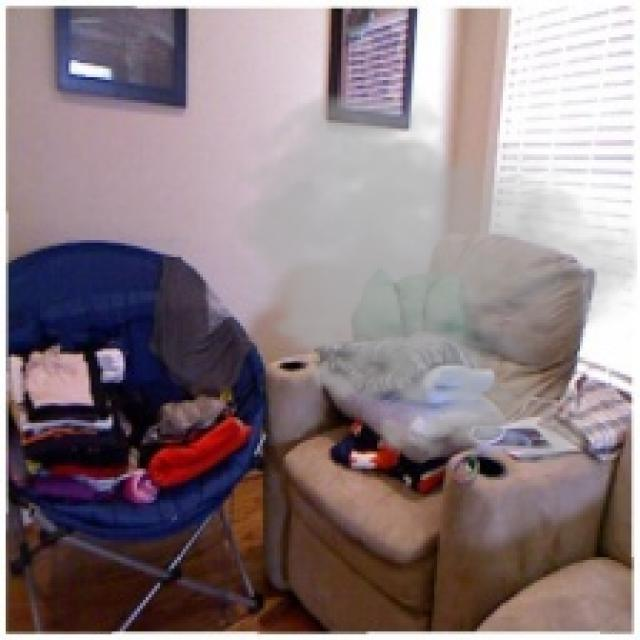smoke: (217, 83, 637, 480)
